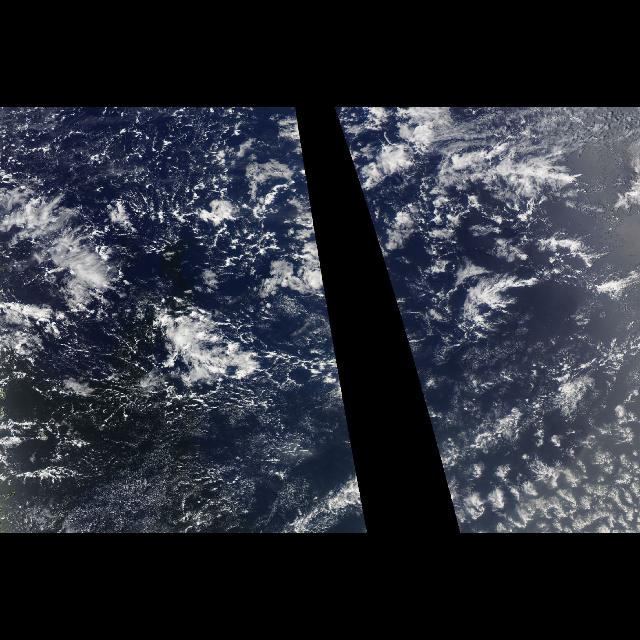Fish: (15, 236, 244, 386)
Gravel: (6, 110, 322, 510)
